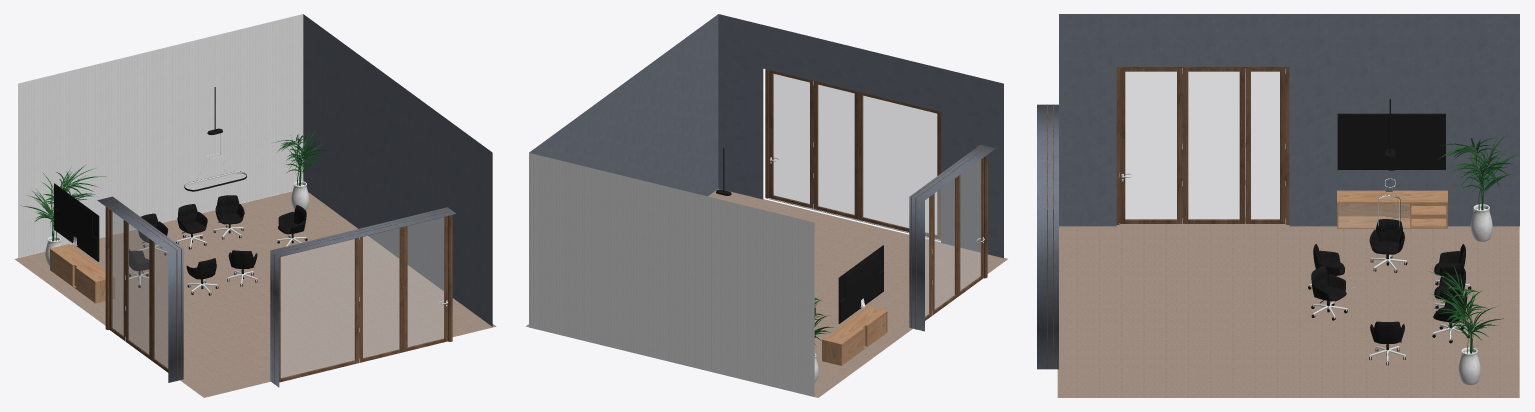
The model's file is conference-table-inscene.glb.
The picture shows the model from 3 angles, left to right: view 1: azimuth 30°, elevation 25°; view 2: azimuth 150°, elevation 25°; view 3: azimuth 270°, elevation 25°; orthographic projection. The views are drawn at different scales.
Parts seen in each view (by area): view 1: Mesh651 Group244 Model.002, Mesh14 Group15 Model, eb_FOLDING 1 X 3 GLASS eb_FOLDING 1 X 3 GLASS [321294]_Defi., Mesh710 Group57 SPG_22_5_3D_dwg_2_3 Haworth_Immerse_table__. (×5), Mesh2 Group1 Model, Mesh13 Group4 Group3 Model, Mesh1031 Plant_005 Group185 VASO_11_1 Model, Mesh710 Group57 SPG_22_5_3D_dwg_2_3 Haworth_Immerse_table___, Mesh1055 pot_005_1 Group186 VASO_11_1_1 Model; view 2: Mesh651 Group244 Model.002, eb_FOLDING 1 X 3 GLASS eb_FOLDING 1 X 3 GLASS [321294]_Defi., Mesh14 Group15 Model, Mesh2 Group1 Model, Mesh13 Group4 Group3 Model; view 3: Mesh14 Group15 Model, Mesh651 Group244 Model.002, eb_FOLDING 1 X 3 GLASS eb_FOLDING 1 X 3 GLASS [321294]_Defi., Mesh13 Group4 Group3 Model, Mesh710 Group57 SPG_22_5_3D_dwg_2_3 Haworth_Immerse_table__. (×6), Mesh2 Group1 Model, Mesh1031 Plant_005 Group185 VASO_11_1 Model, Mesh958 pot_005 Group185 VASO_11_1 Model, Mesh1055 pot_005_1 Group186 VASO_11_1_1 Model, Mesh710 Group57 SPG_22_5_3D_dwg_2_3 Haworth_Immerse_table___.
Part boxes in pixels (x1,y1,x2,y2): Mesh651 Group244 Model.002: (18, 14, 492, 387); Mesh14 Group15 Model: (14, 191, 496, 397); eb_FOLDING 1 X 3 GLASS eb_FOLDING 1 X 3 GLASS [321294]_Defi.: (105, 197, 452, 384); Mesh710 Group57 SPG_22_5_3D_dwg_2_3 Haworth_Immerse_table__. (×5): (129, 195, 307, 287); Mesh2 Group1 Model: (50, 244, 115, 303); Mesh13 Group4 Group3 Model: (54, 183, 99, 261); Mesh1031 Plant_005 Group185 VASO_11_1 Model: (21, 127, 329, 226); Mesh710 Group57 SPG_22_5_3D_dwg_2_3 Haworth_Immerse_table___: (186, 258, 218, 295); Mesh1055 pot_005_1 Group186 VASO_11_1_1 Model: (291, 181, 309, 210); Mesh651 Group244 Model.002: (529, 14, 1003, 396); eb_FOLDING 1 X 3 GLASS eb_FOLDING 1 X 3 GLASS [321294]_Defi.: (765, 69, 987, 329); Mesh14 Group15 Model: (525, 188, 1007, 397); Mesh2 Group1 Model: (822, 306, 887, 365); Mesh13 Group4 Group3 Model: (838, 245, 883, 323); Mesh14 Group15 Model: (1057, 224, 1519, 397); Mesh651 Group244 Model.002: (1037, 14, 1519, 369); eb_FOLDING 1 X 3 GLASS eb_FOLDING 1 X 3 GLASS [321294]_Defi.: (1047, 67, 1289, 369); Mesh13 Group4 Group3 Model: (1337, 113, 1445, 170); Mesh710 Group57 SPG_22_5_3D_dwg_2_3 Haworth_Immerse_table__. (×6): (1311, 219, 1471, 365); Mesh2 Group1 Model: (1337, 190, 1447, 228); Mesh1031 Plant_005 Group185 VASO_11_1 Model: (1429, 133, 1517, 340); Mesh958 pot_005 Group185 VASO_11_1 Model: (1470, 204, 1492, 241); Mesh1055 pot_005_1 Group186 VASO_11_1_1 Model: (1458, 347, 1480, 384); Mesh710 Group57 SPG_22_5_3D_dwg_2_3 Haworth_Immerse_table___: (1308, 244, 1344, 289).
Bounding box in the file's own units: 7.85 × 4.32 × 8.88.
Materials: 21 (10 with a texture image).
